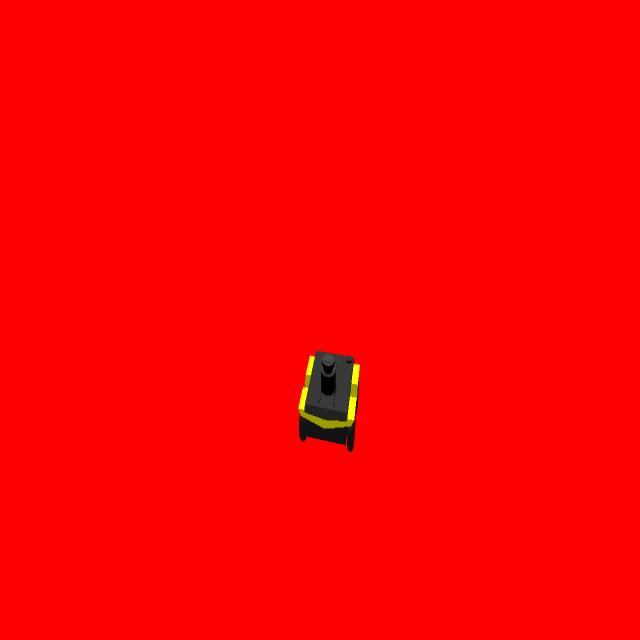jackal: (296, 344, 362, 454)
